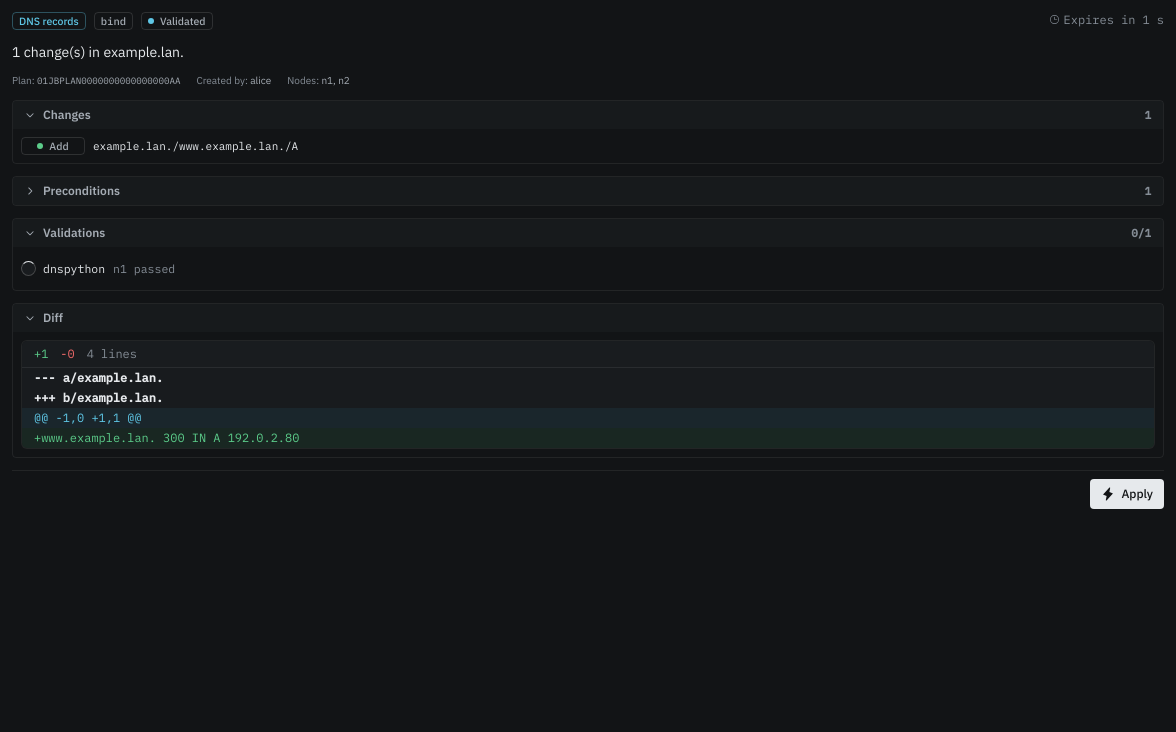
it: PlanPreview › keeps rollback available for the TTL restarted at apply
The width and height of the screenshot is (1176, 732).
Click the button with test id "plan-apply". click: click(1127, 494)
box: [1090, 479, 1164, 509]
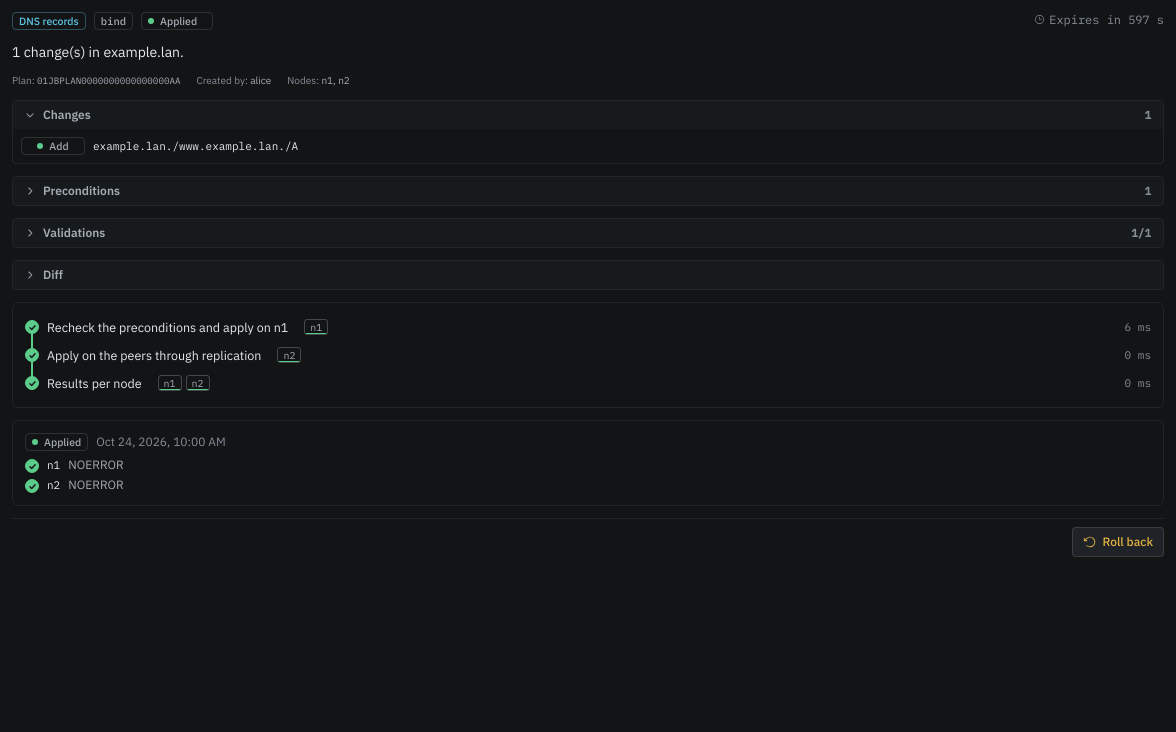
Now the button with test id "plan-rollback" is shown, box [1072, 527, 1164, 557]
